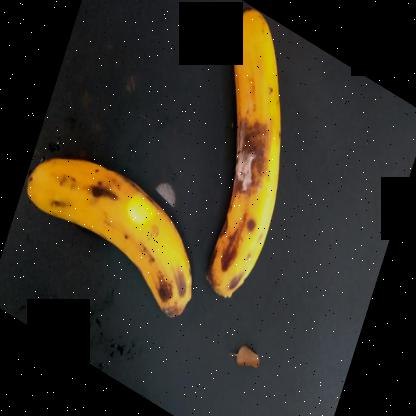overripe: (12, 128, 194, 318), (192, 0, 301, 298)
